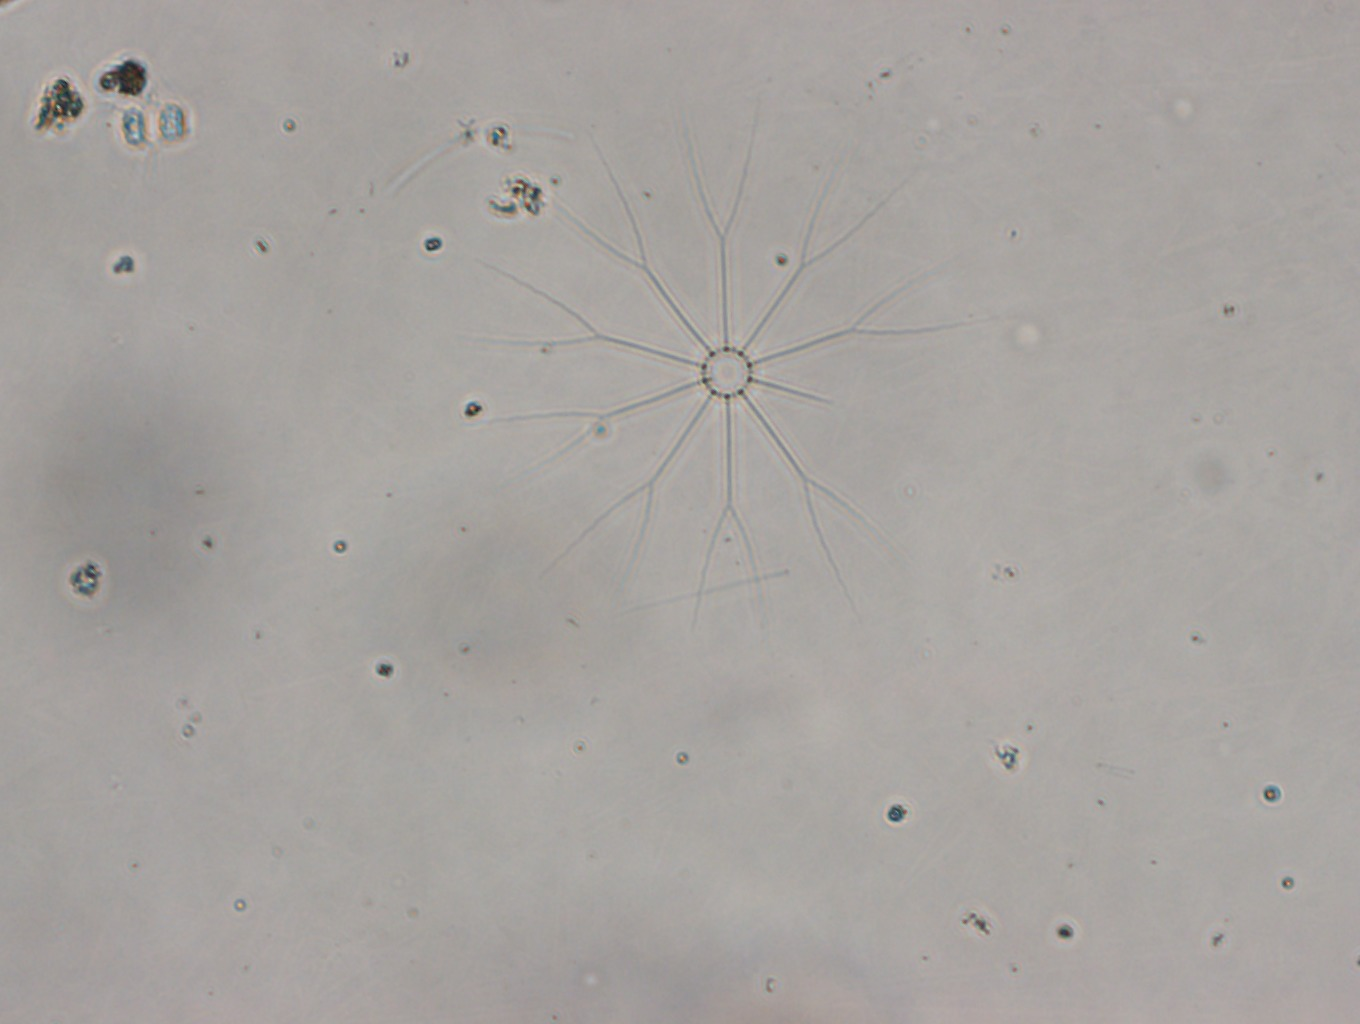bacteriastrum: (468, 105, 990, 626)
